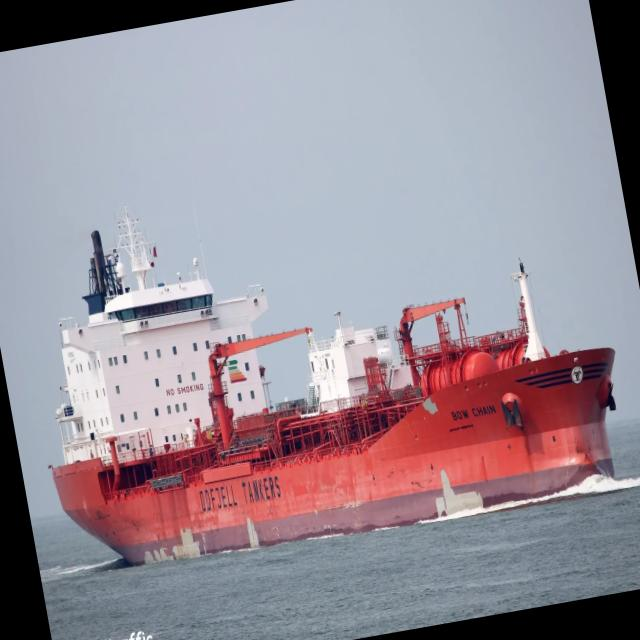Tanker: (51, 215, 614, 563)
